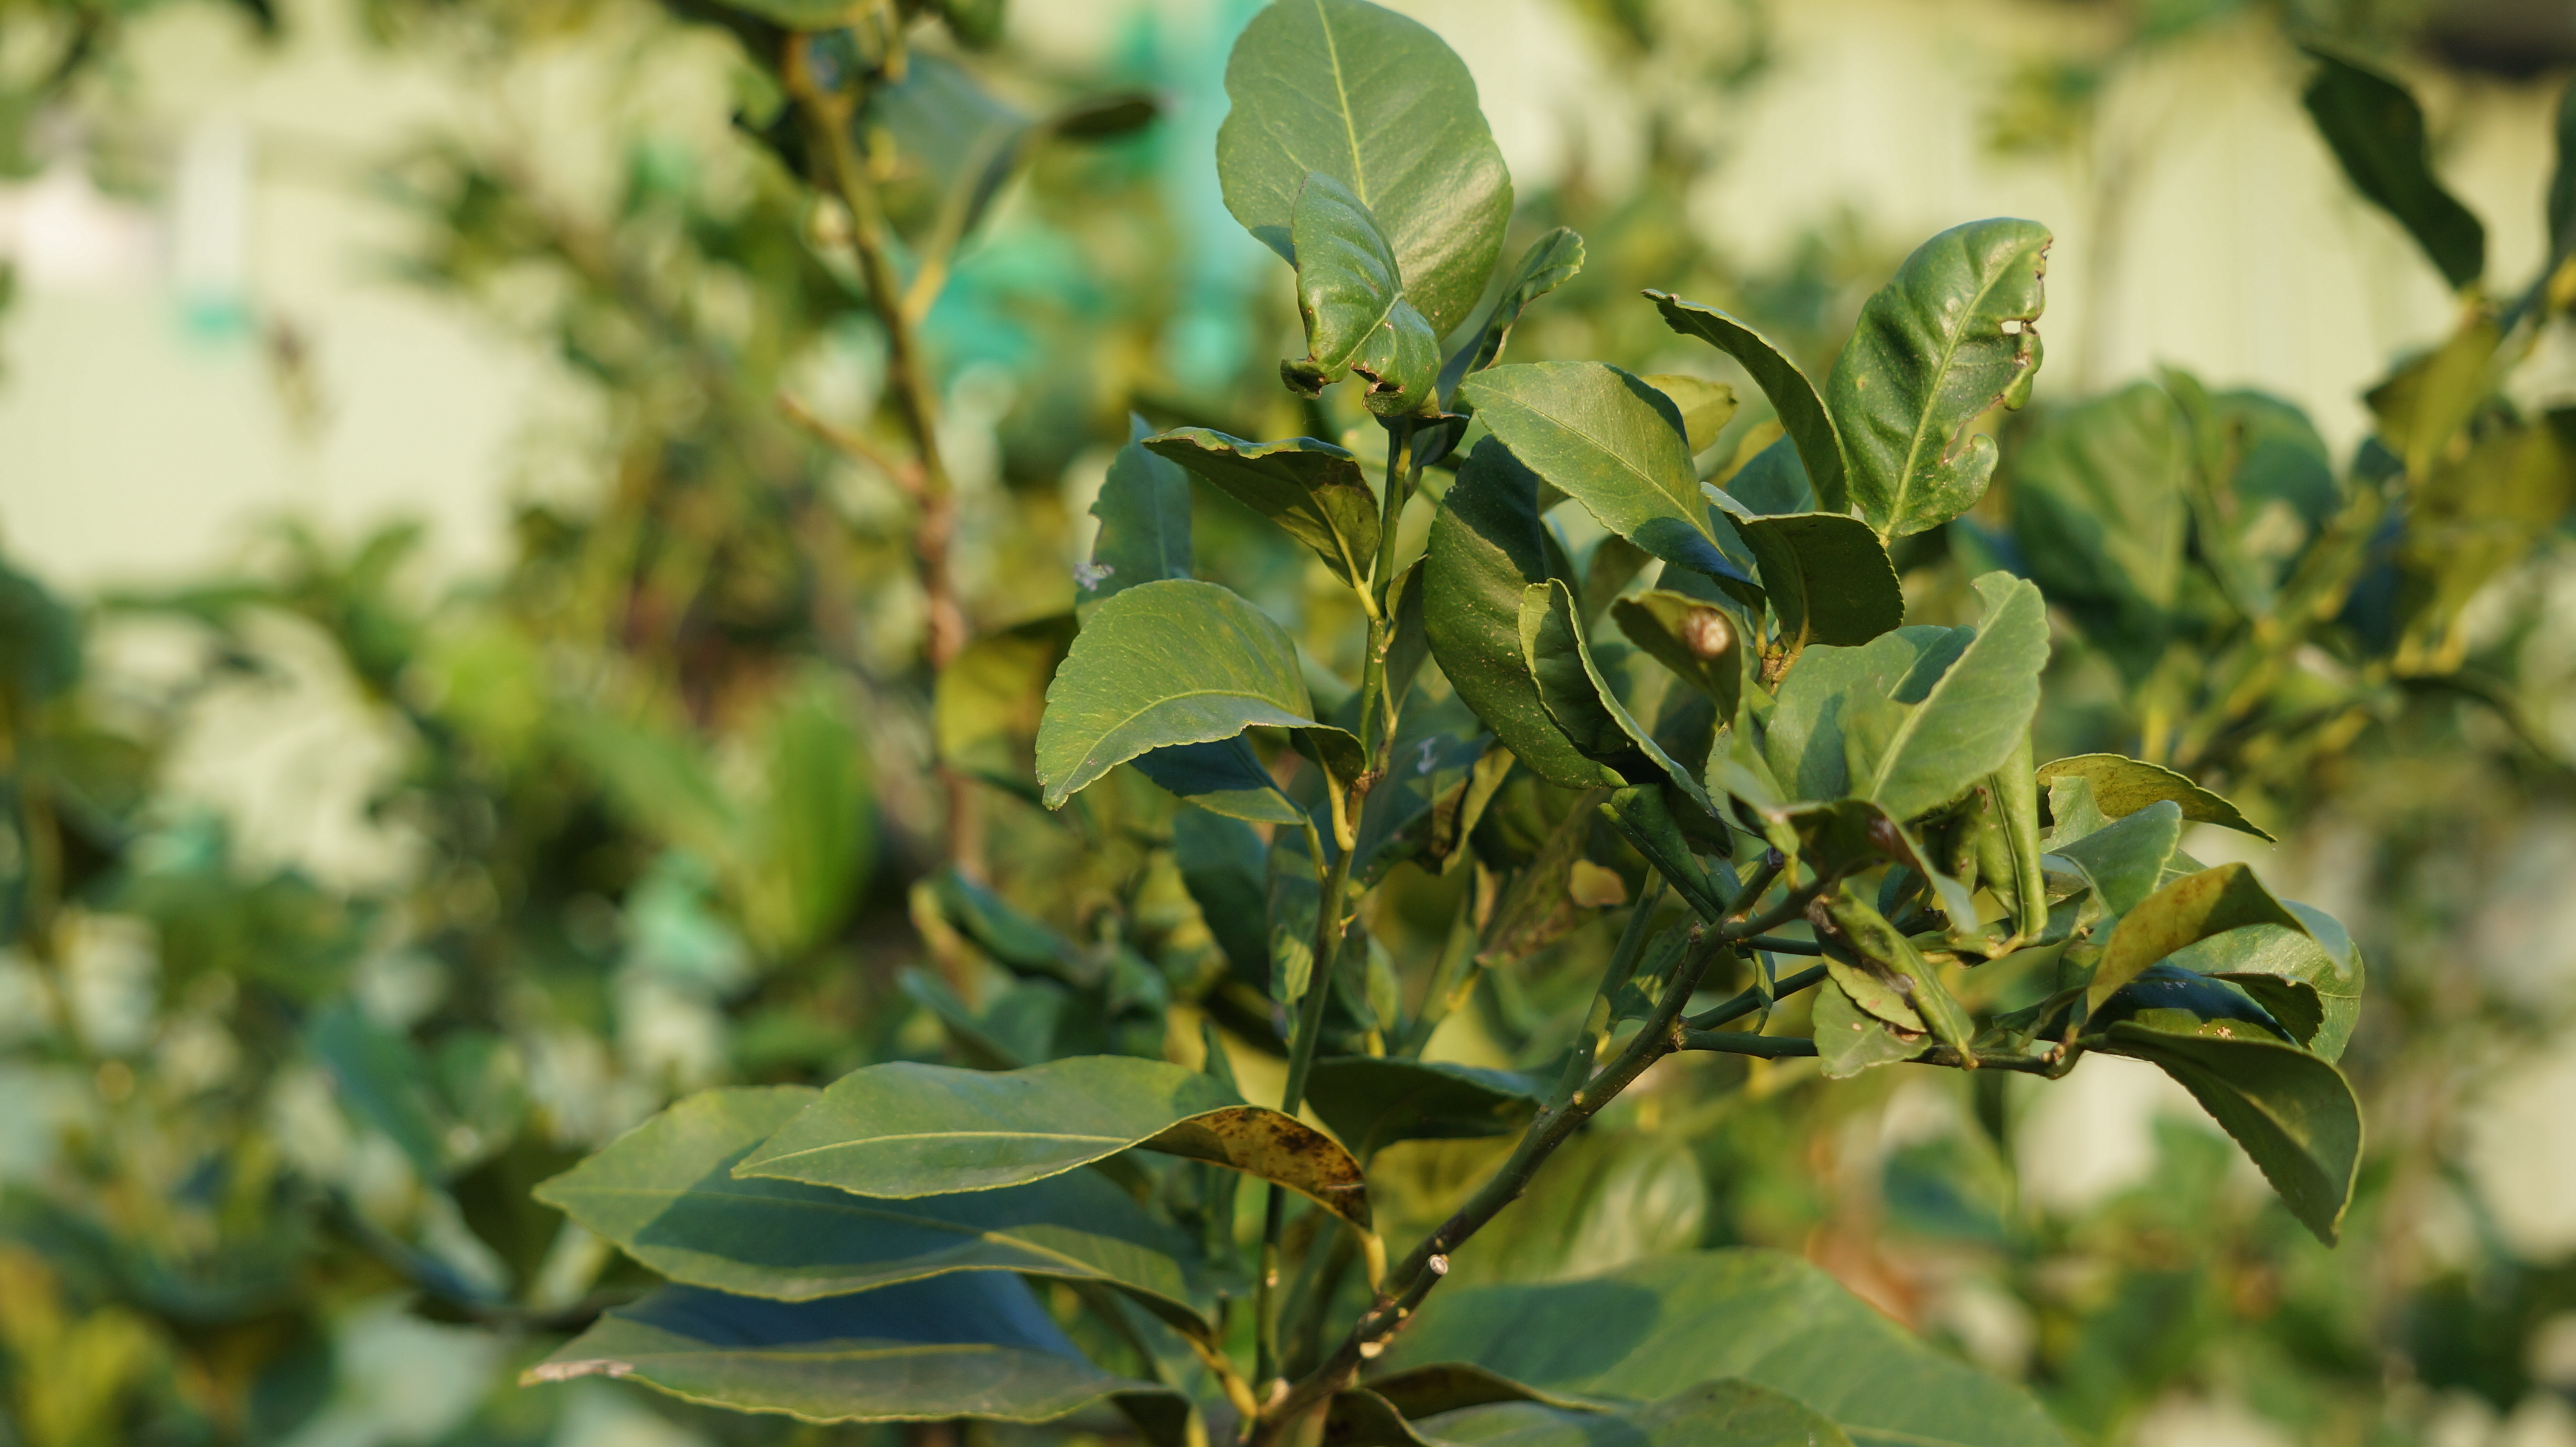curly: (1798, 883, 1985, 1068), (1943, 660, 2058, 952)
